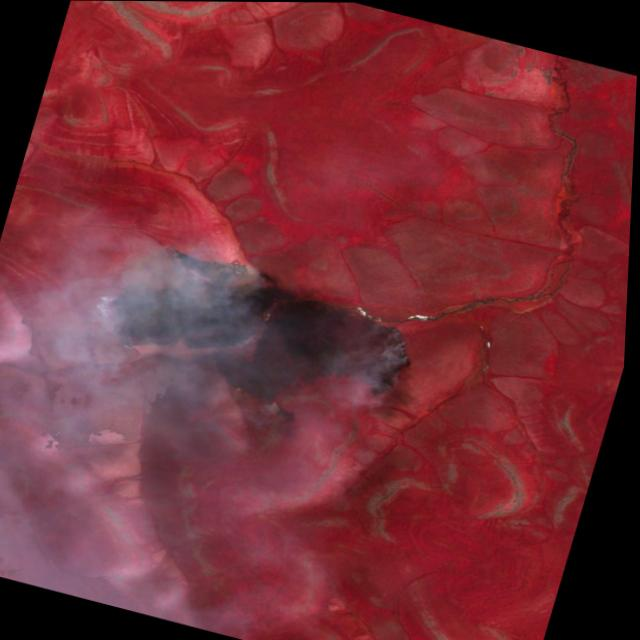fire: (102, 231, 441, 442)
